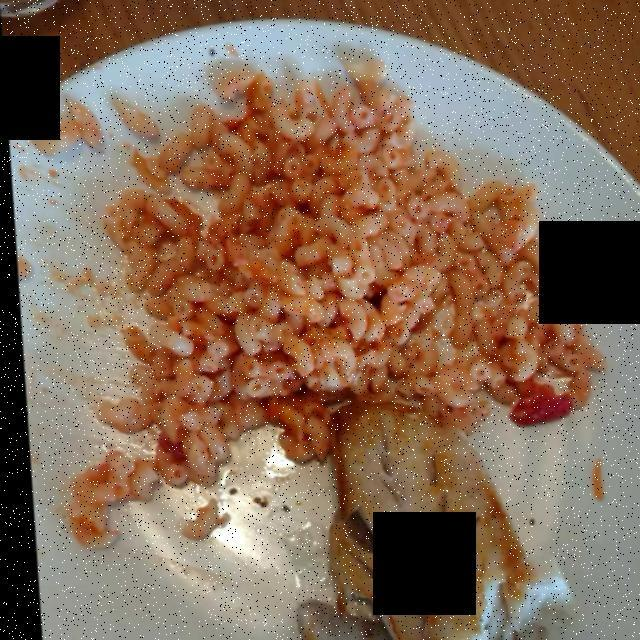fish: (287, 402, 547, 633)
pasta: (65, 61, 577, 549)
tomato-sauce: (119, 66, 584, 466)
